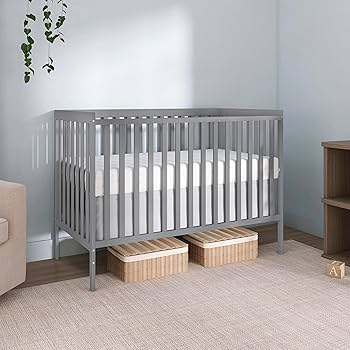crib: (54, 109, 284, 292)
